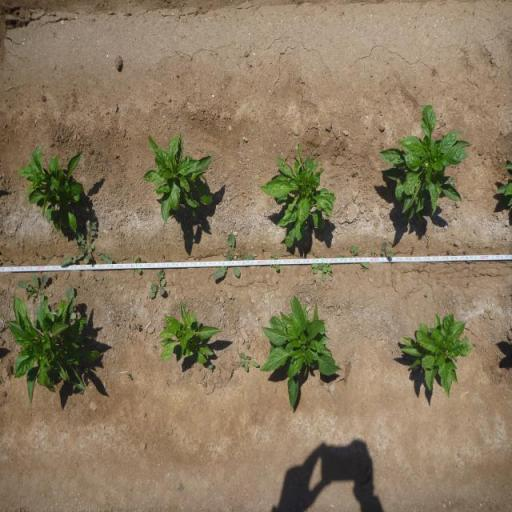plant: (377, 98, 474, 224), (259, 292, 343, 413), (12, 298, 100, 407), (260, 142, 338, 249), (141, 130, 216, 226), (396, 310, 474, 398), (15, 142, 87, 230), (158, 298, 222, 364)
weed: (59, 214, 115, 268), (213, 231, 255, 283), (17, 274, 49, 300), (149, 268, 167, 298), (238, 352, 260, 374), (311, 262, 334, 282), (335, 244, 360, 258), (379, 241, 394, 257), (270, 253, 280, 272), (134, 256, 142, 274), (368, 250, 378, 257), (208, 362, 214, 373), (246, 342, 252, 350), (127, 372, 132, 381), (135, 322, 140, 330), (53, 272, 58, 278), (461, 250, 467, 255)
